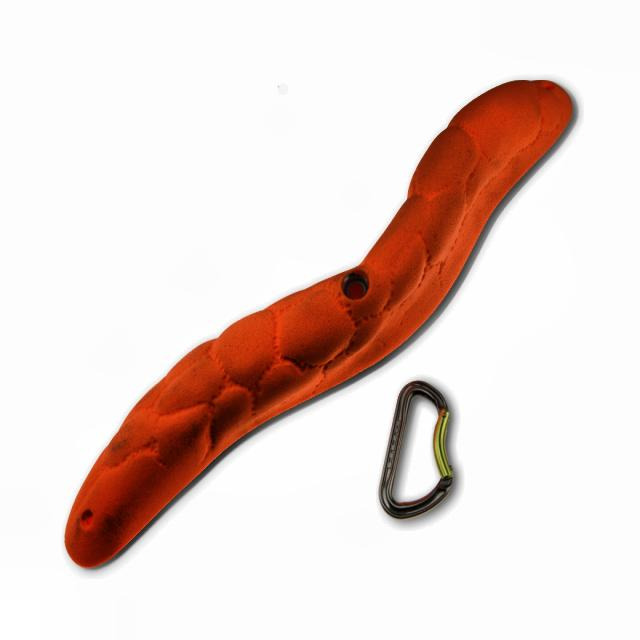Hold: (25, 44, 610, 607)
